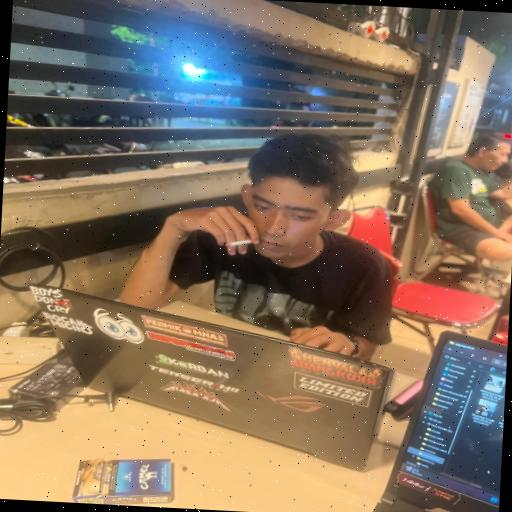pegang rokok: (201, 186, 286, 282)
